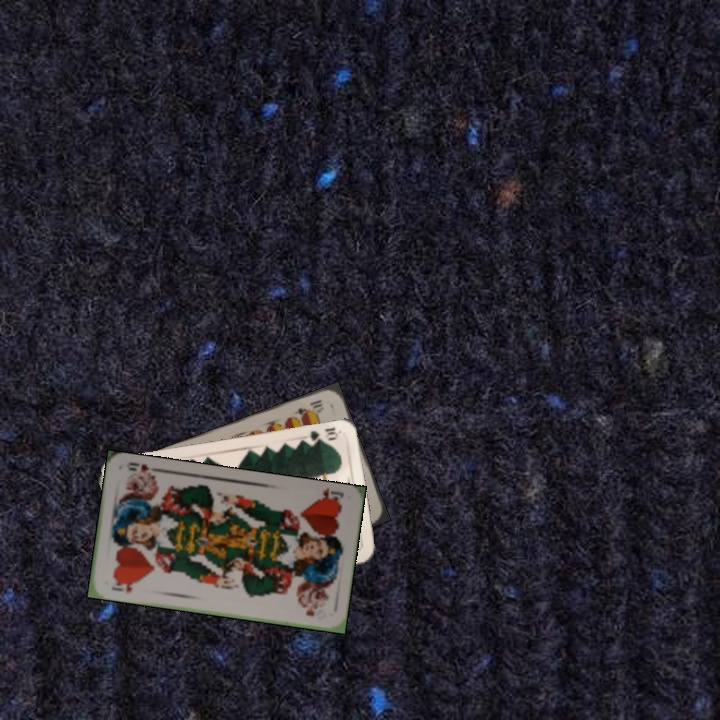E10: (290, 395, 325, 420)
G10: (302, 423, 341, 447)
HO: (313, 484, 346, 507), (107, 576, 140, 595)
